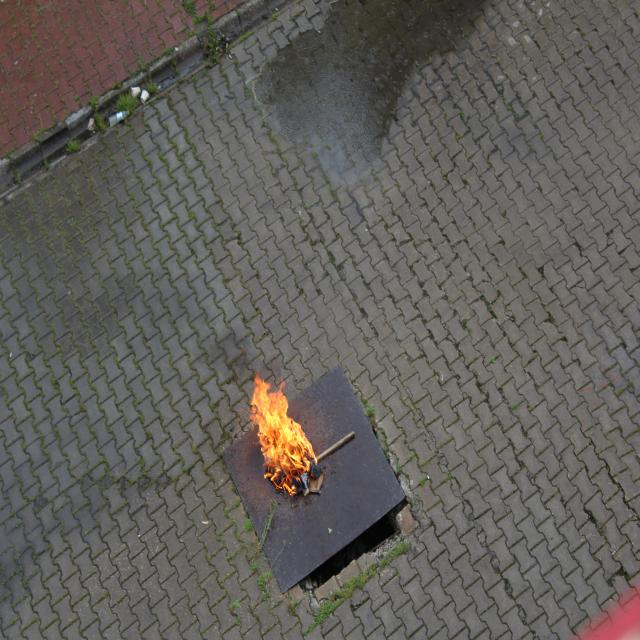fire: (244, 372, 323, 497)
